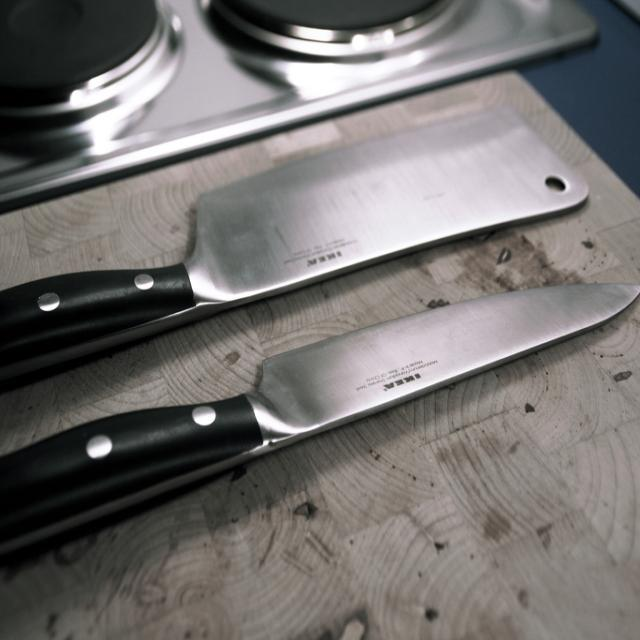Knife: (0, 284, 640, 554), (0, 108, 588, 381)
